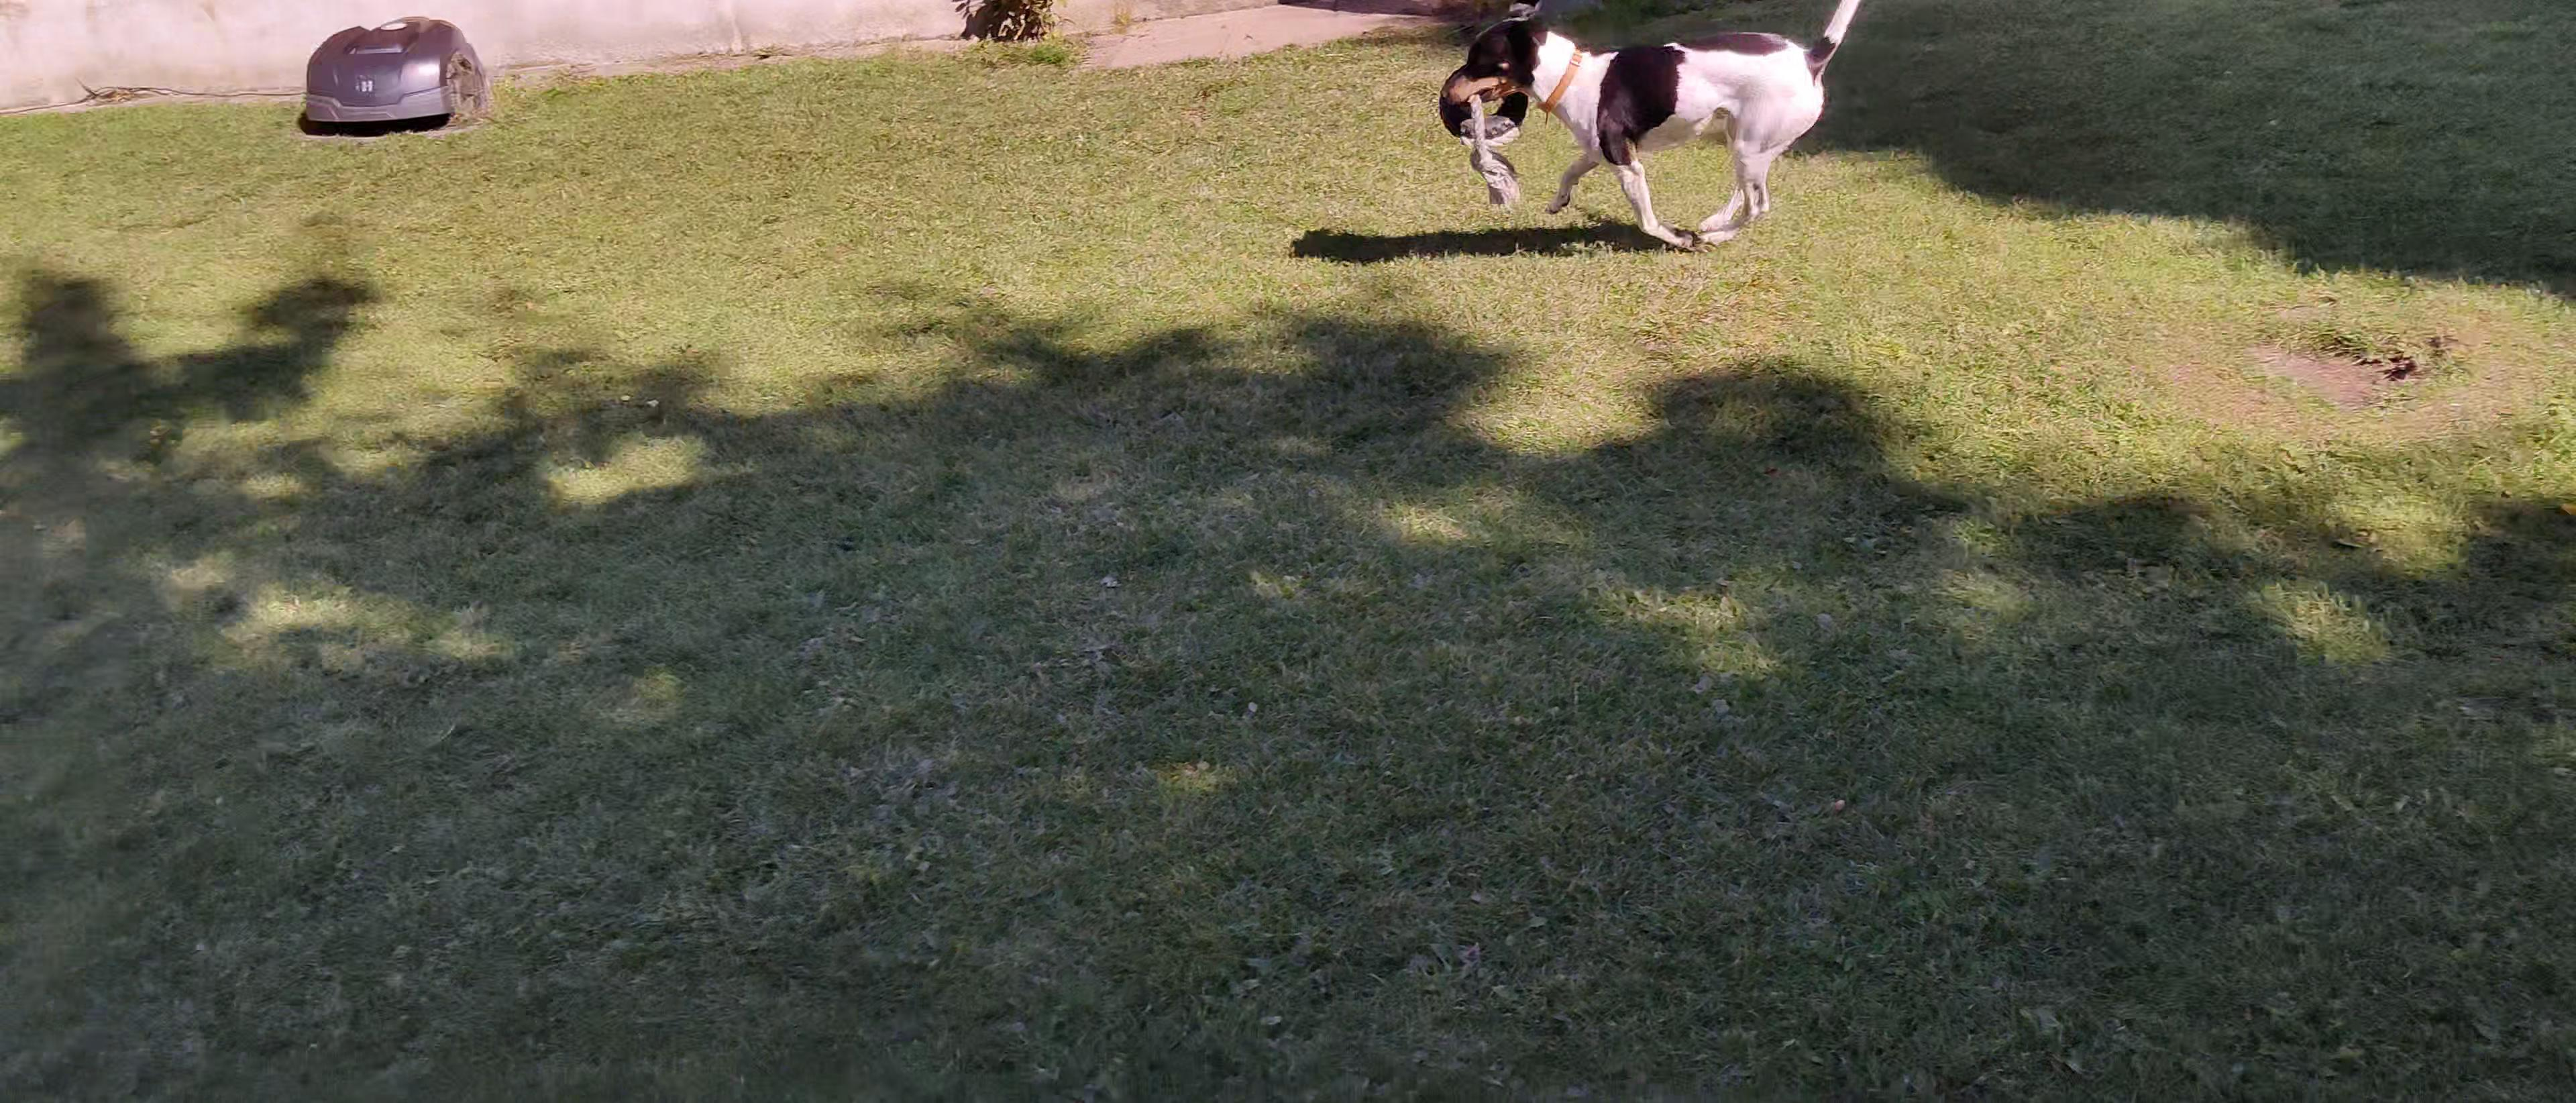Dog: (1431, 0, 1888, 245)
